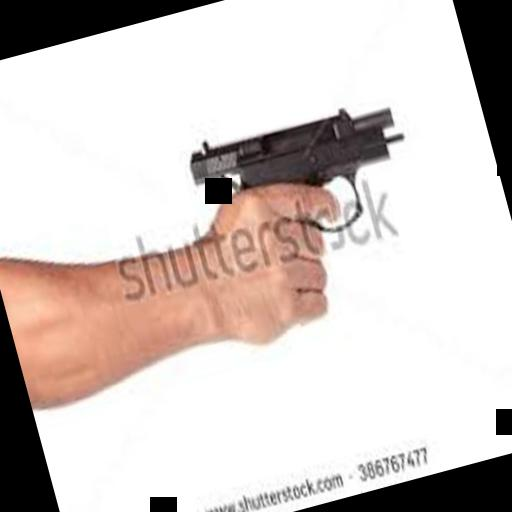Handgun: (178, 80, 427, 266)
